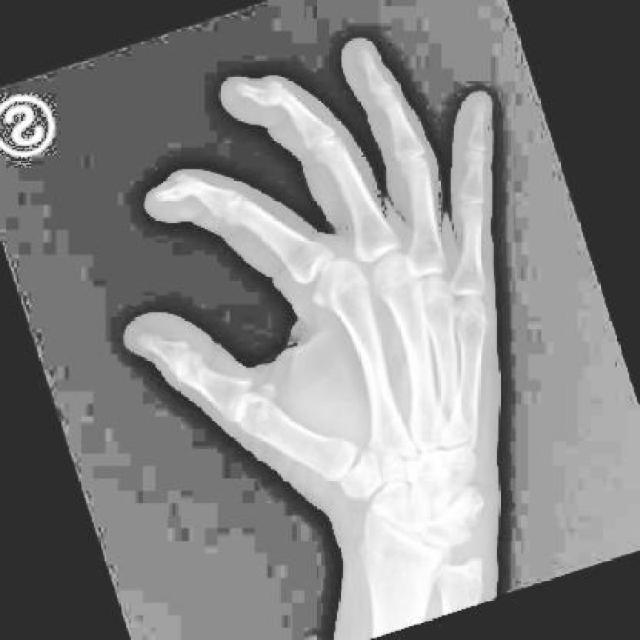Fracture: (245, 381, 287, 418)
